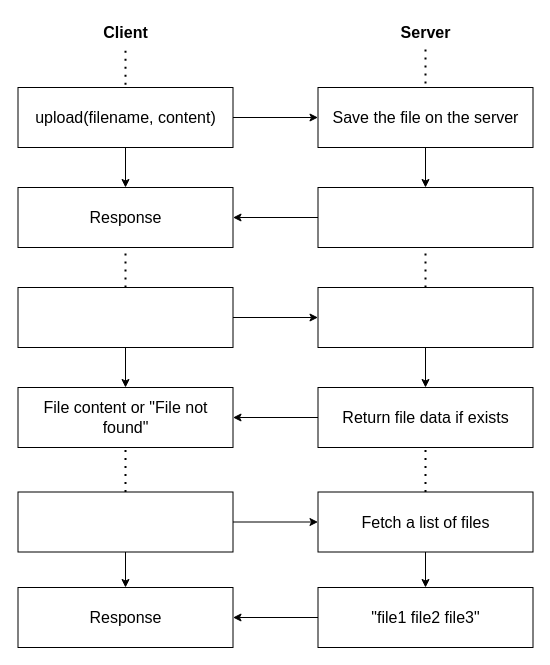
The diagram is 550 pixels wide and 665 high, and some of its shapes have lost their labels. The shapes that lost their labels are listed below. From the top down, each one's centre as x and y in pixels, then its label:
point 425,217: "File uploaded successfully"
point 125,317: download(filename)
point 425,317: Check if the file exists
point 125,521: list()
